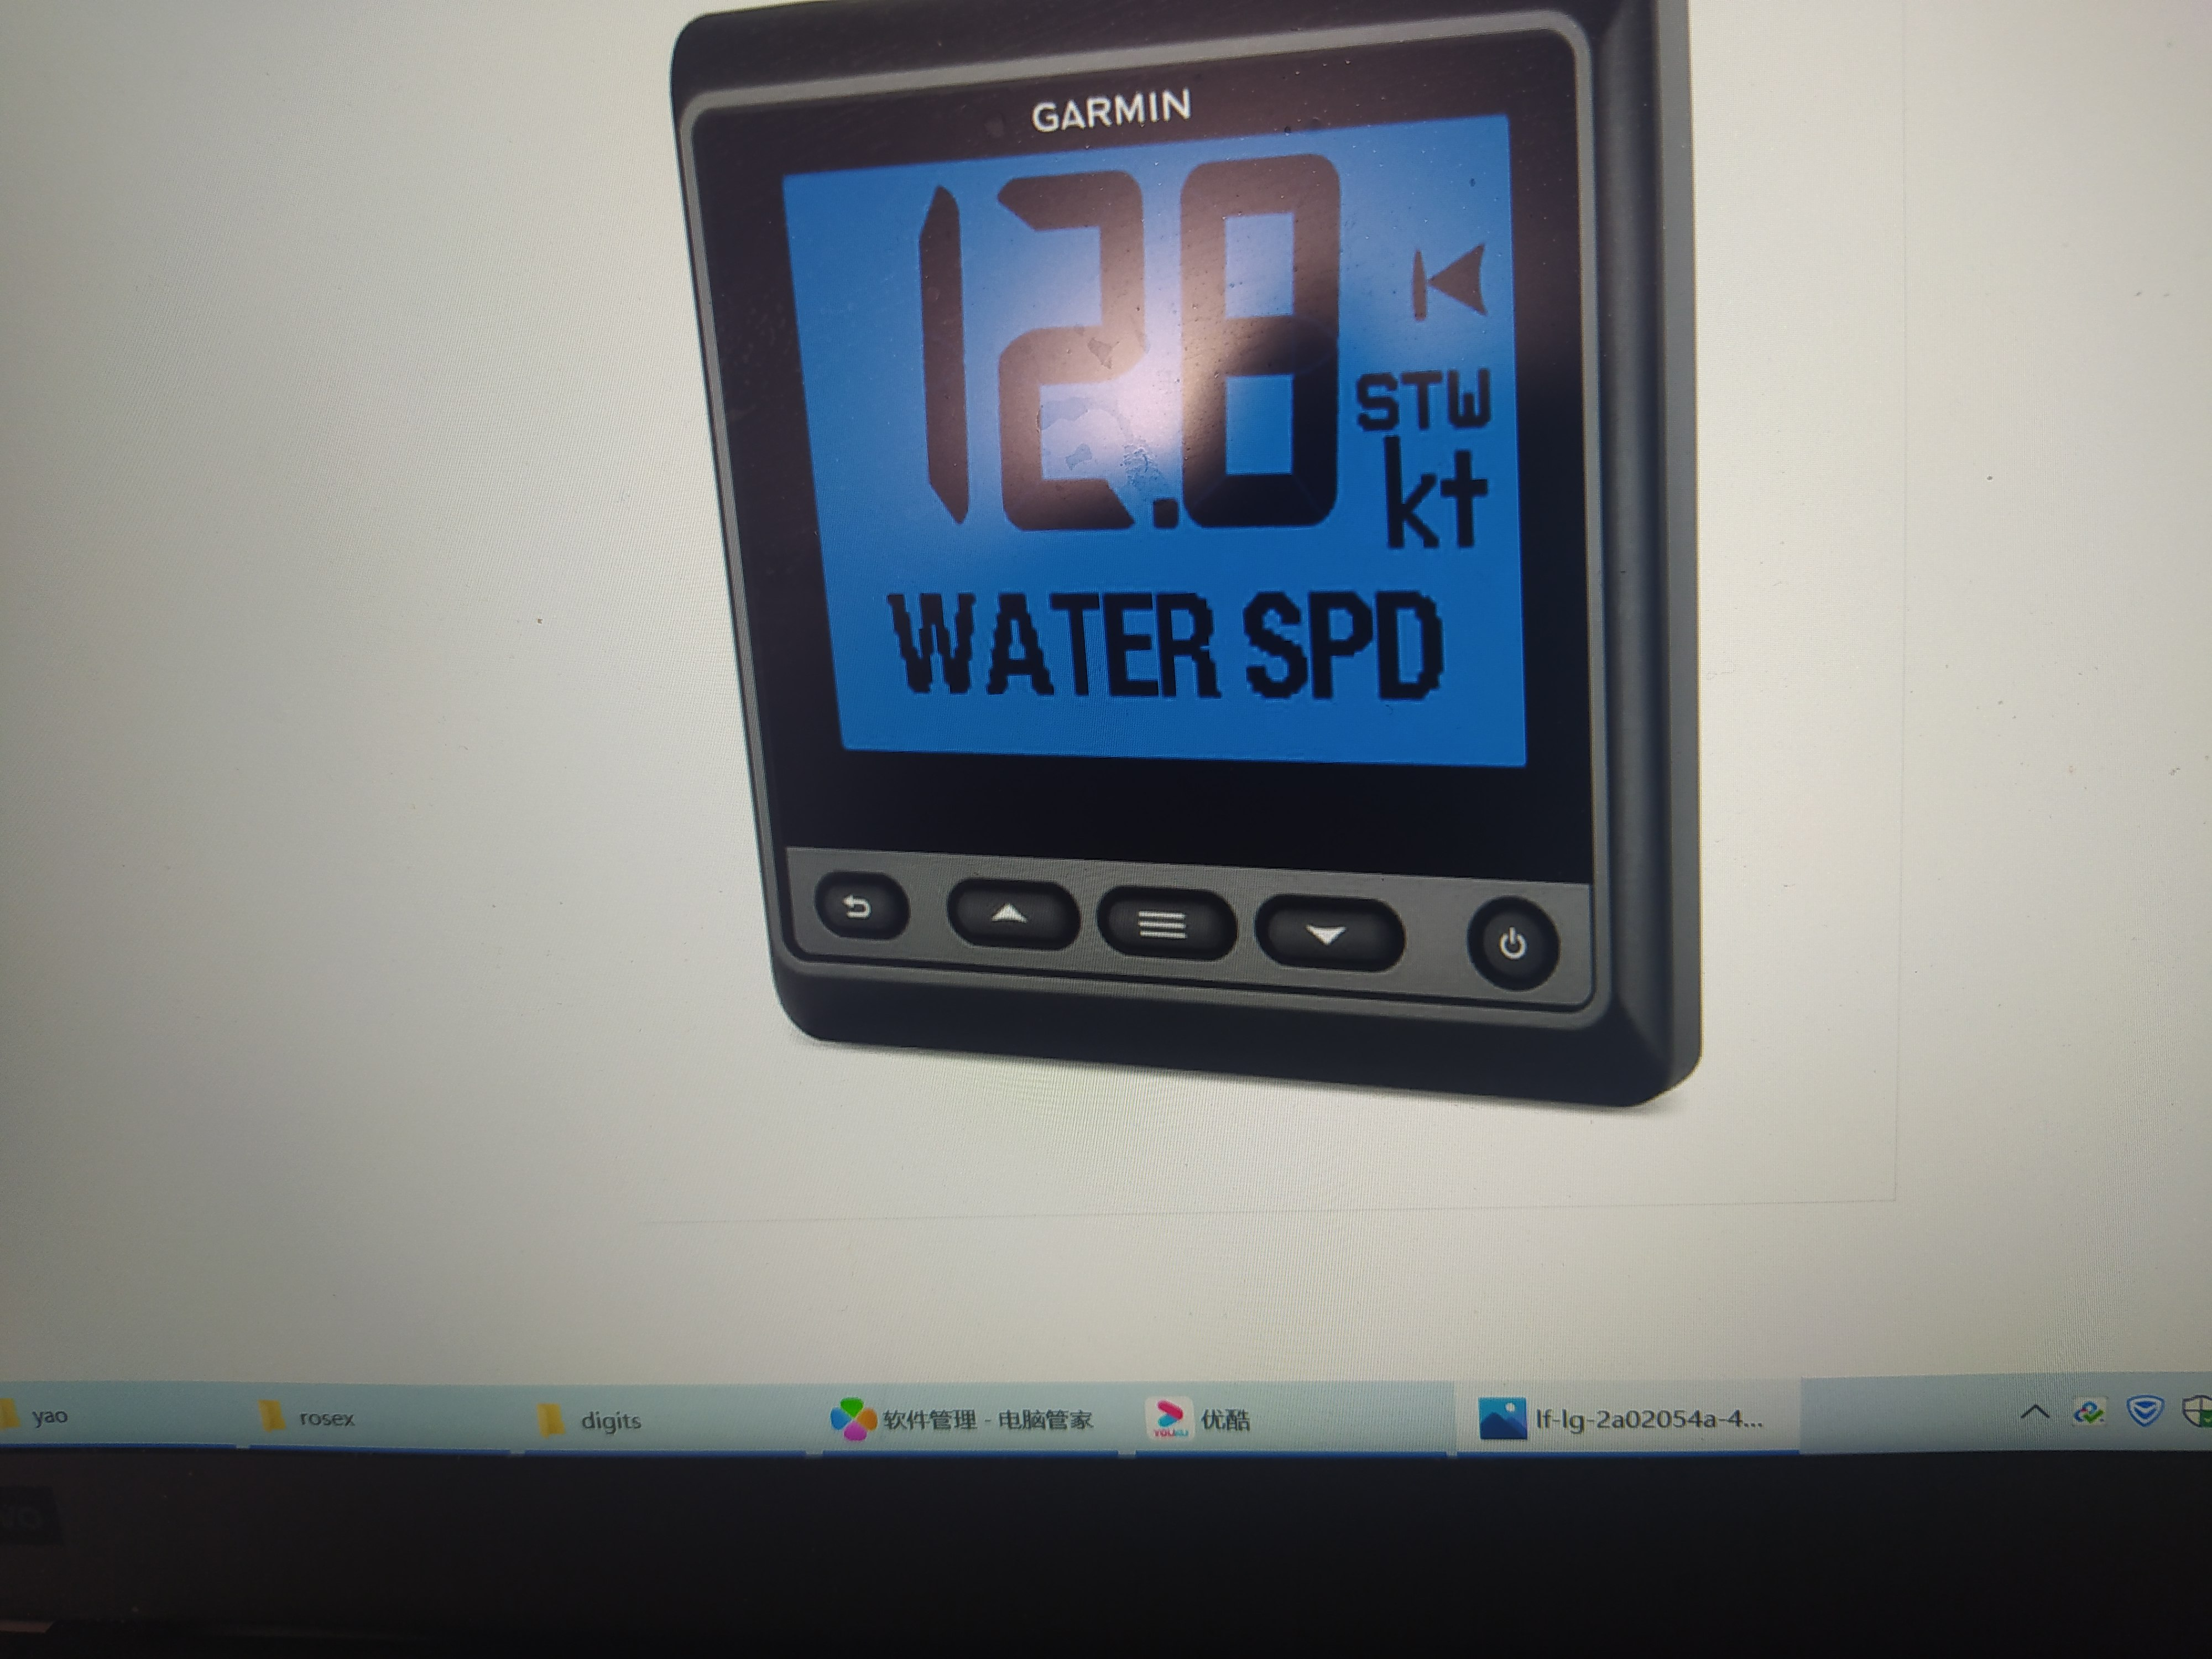.: (1151, 171, 1179, 532)
0: (1625, 1410, 1641, 1429), (1656, 1410, 1672, 1429)
1: (918, 185, 972, 526)
2: (998, 171, 1143, 533), (1595, 1410, 1611, 1429), (1641, 1410, 1656, 1429)
4: (1686, 1410, 1703, 1427), (1728, 1408, 1743, 1427)
5: (1672, 1410, 1686, 1429)
8: (1181, 153, 1341, 530)
